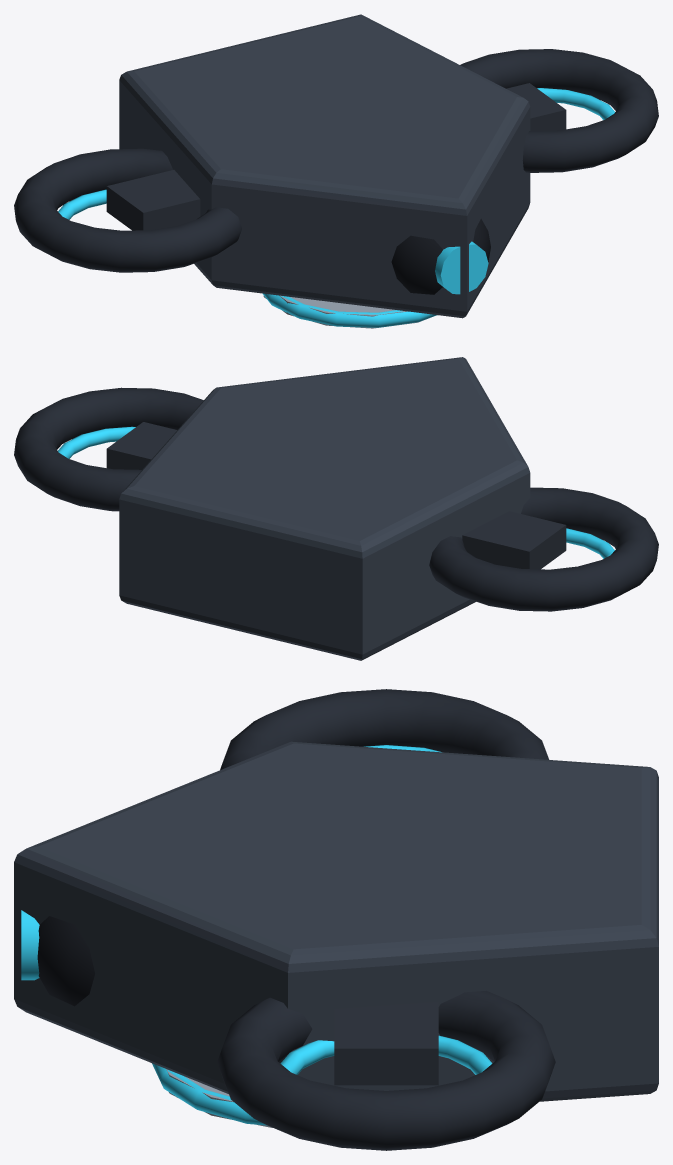
The model's file is enemy_drone.glb.
3 renders of one model, top to bottom at view 1: azimuth 30°, elevation 25°; view 2: azimuth 150°, elevation 25°; view 3: azimuth 270°, elevation 25°, orthographic. The views are drawn at different scales.
Parts seen in each view (by area): view 1: TorsoPivot, LeftArmPivot, RightArmPivot, HeadPivot, SawPivot; view 2: TorsoPivot, LeftArmPivot, RightArmPivot; view 3: TorsoPivot, RightArmPivot, LeftArmPivot, HeadPivot, SawPivot.
Part boxes in pixels (box(x1,y1,x2,y2)): TorsoPivot: box(119, 14, 530, 318); LeftArmPivot: box(14, 148, 241, 272); RightArmPivot: box(460, 49, 658, 172); HeadPivot: box(391, 218, 490, 294); SawPivot: box(262, 293, 437, 328); TorsoPivot: box(119, 357, 530, 660); LeftArmPivot: box(429, 487, 658, 611); RightArmPivot: box(14, 387, 203, 511); TorsoPivot: box(14, 741, 658, 1101); RightArmPivot: box(217, 990, 555, 1150); LeftArmPivot: box(220, 689, 549, 769); HeadPivot: box(21, 910, 94, 1006); SawPivot: box(152, 1063, 272, 1127).
Bounding box in the file's own units: 1.74 × 0.42 × 1.11.
